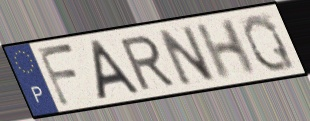A: (90, 37, 144, 102)
F: (34, 42, 83, 108)
H: (193, 16, 259, 82)
N: (154, 23, 219, 89)
Q: (241, 12, 299, 73)
R: (117, 33, 177, 92)
